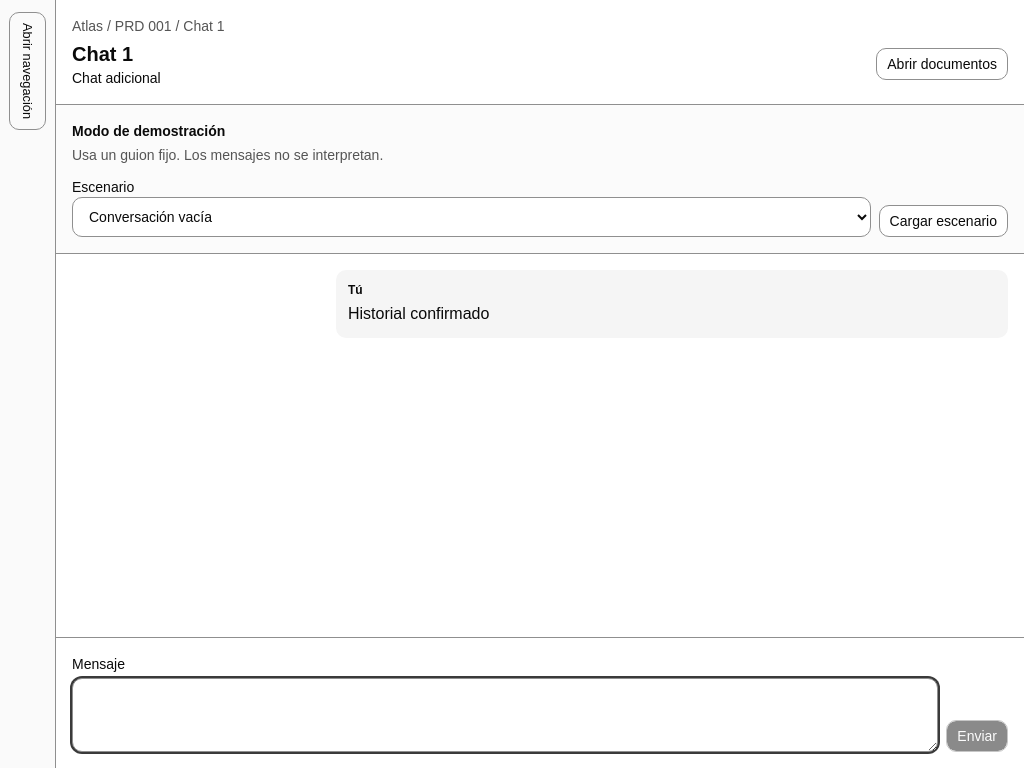
Test: WorkspaceShell › pide confirmación antes de reemplazar estado confirmado y cancelar lo conserva
Expected: the text "Historial confirmado" is shown, 348,305 -> 489,322
Select "Pregunta del agente" in the dropdown labelled "Escenario" at [471, 217], box 72,197 -> 871,237
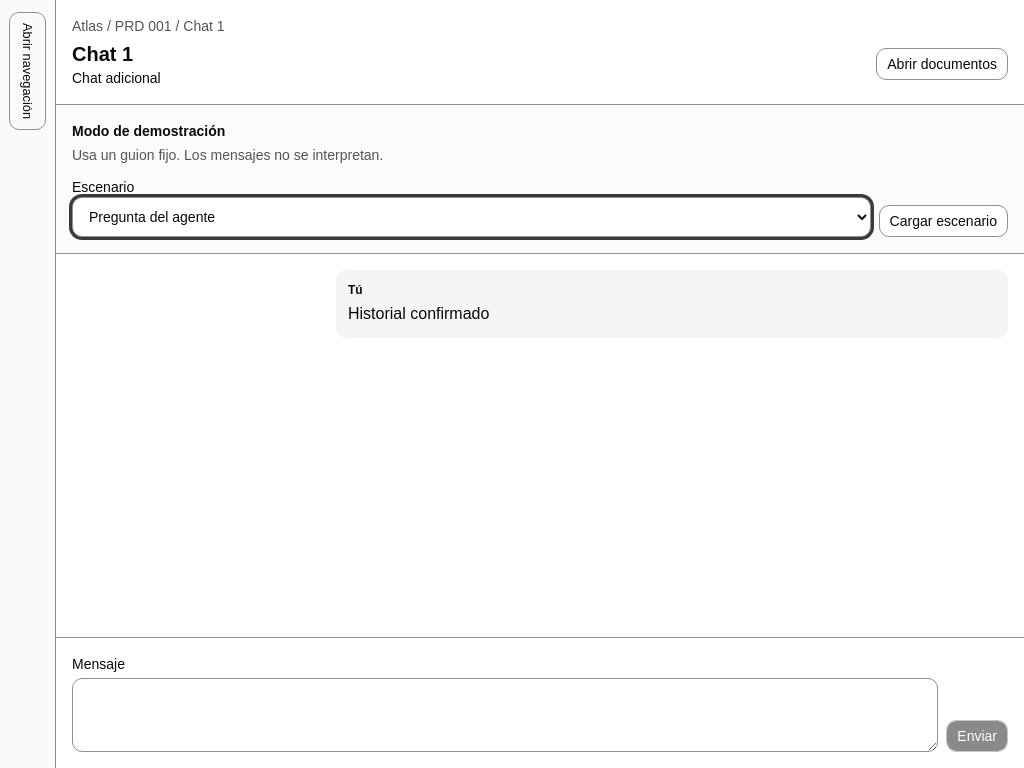
Click the button "Cargar escenario" at [943, 221], box 879,205 -> 1008,237
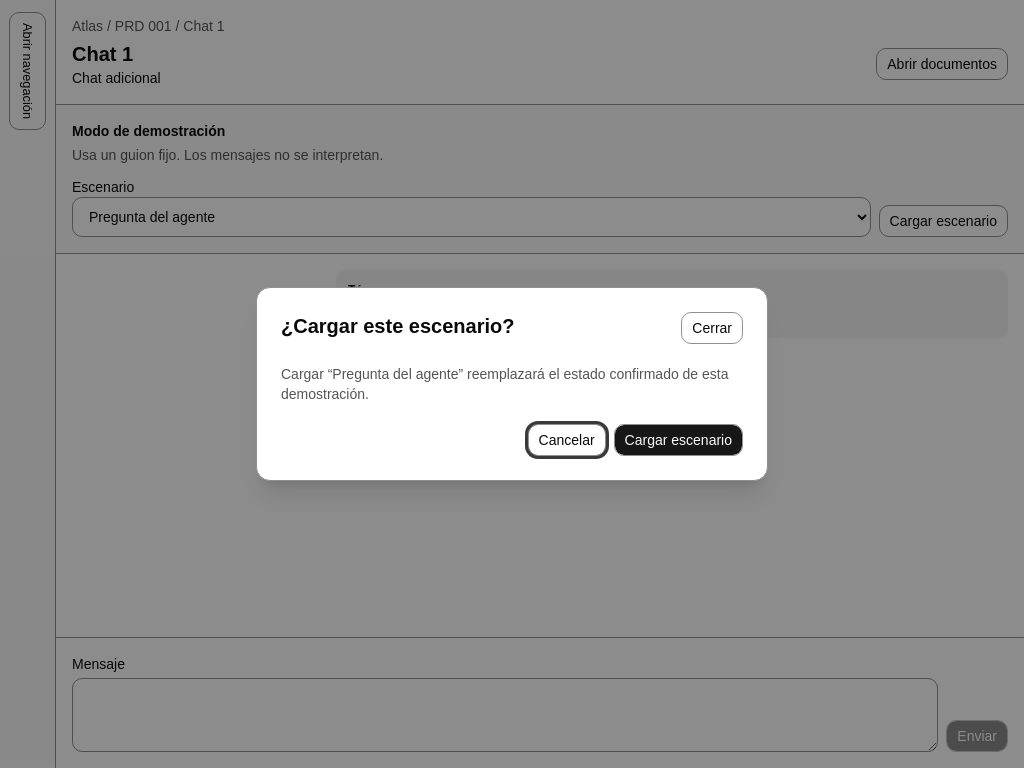
Click the button "Cancelar" at [567, 440], box 528,424 -> 606,456
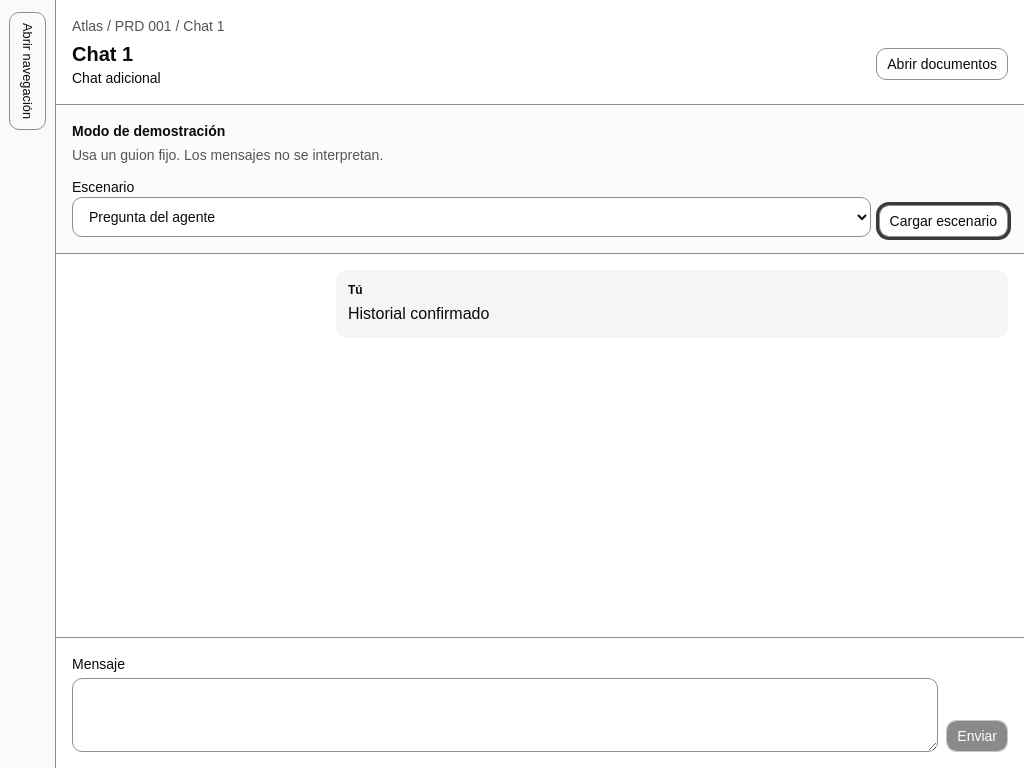
Expected: the text "Historial confirmado" is shown, 348,305 -> 489,322
Click the button "Cargar escenario" at [943, 221], box 879,205 -> 1008,237
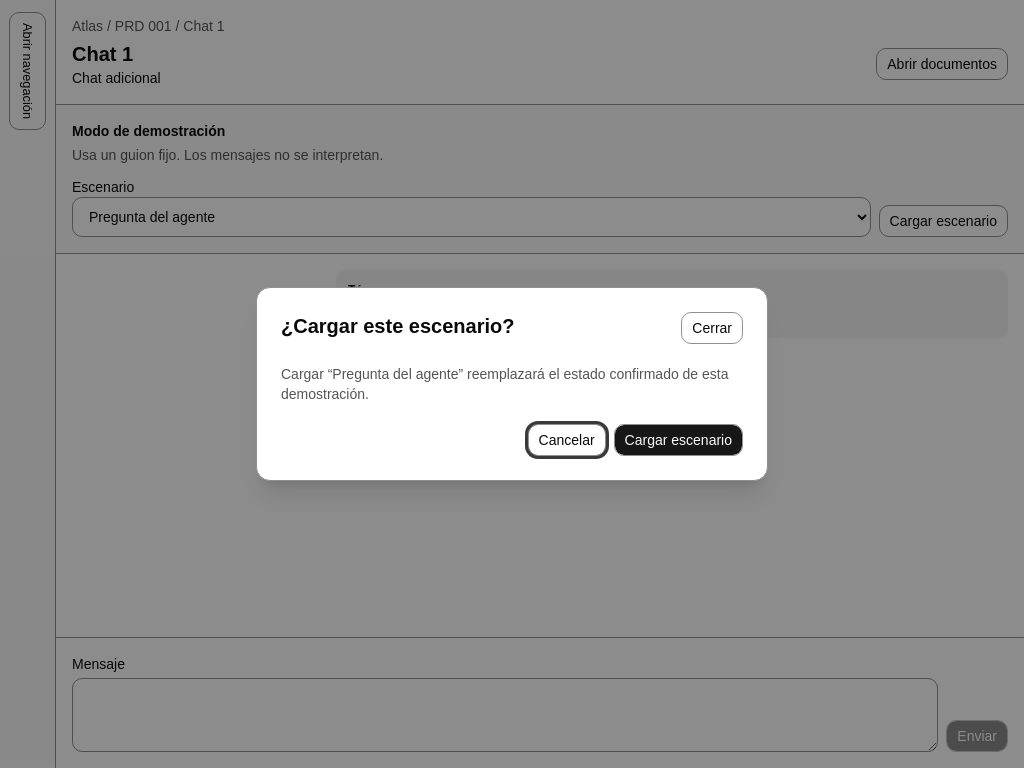
Click the button "Cargar escenario" at [678, 440], box 614,424 -> 743,456
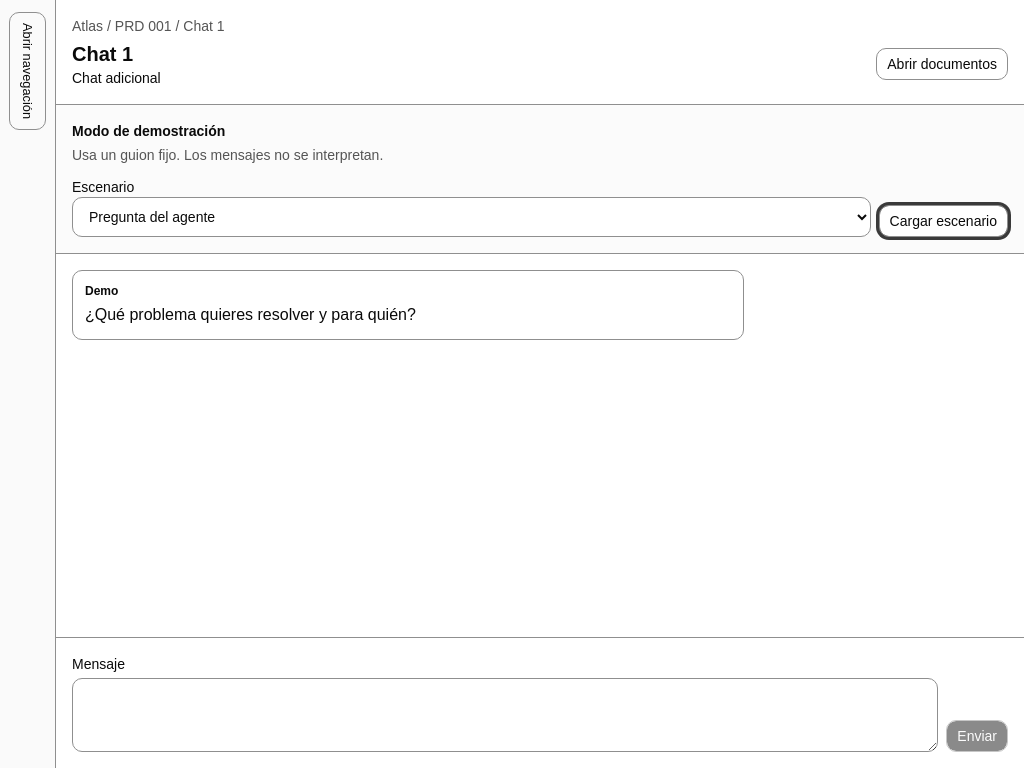
Expected: the text "¿Qué problema quieres resolver y para quién?" is shown, 85,306 -> 416,323
Expected: the text "Historial confirmado" is gone
